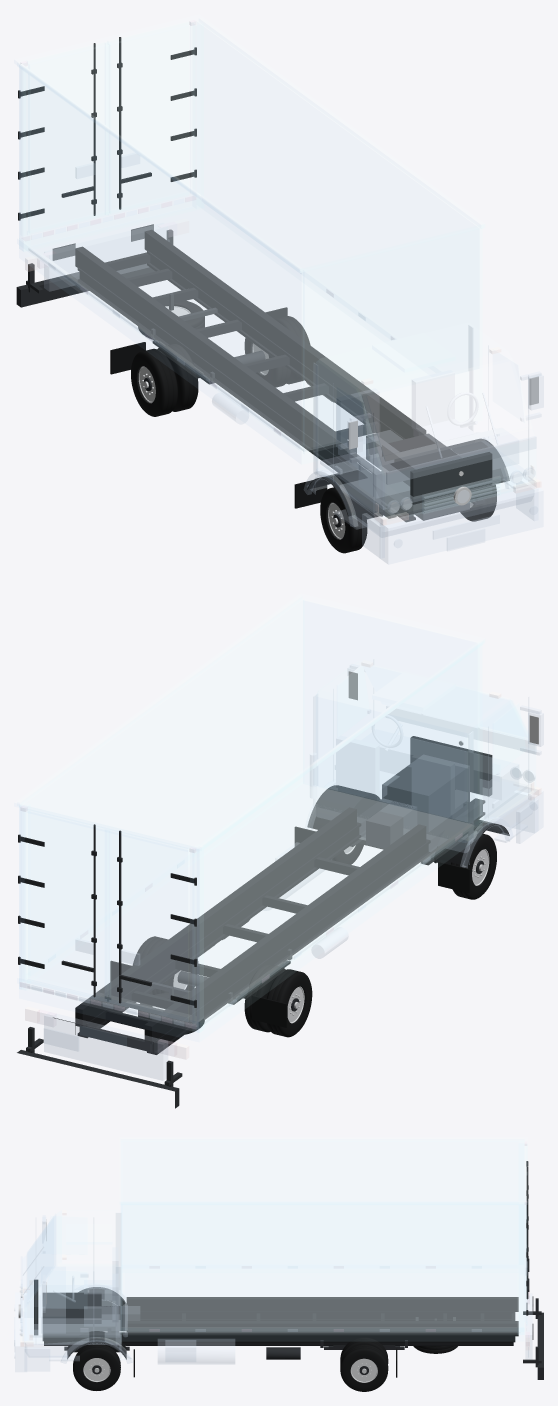
File: mb_accelo_ntp_raiox.glb
3 renders of one model, top to bottom at view 1: azimuth 30°, elevation 25°; view 2: azimuth 150°, elevation 25°; view 3: azimuth 270°, elevation 25°, orthographic. The views are drawn at different scales.
Parts seen in each view (by area): view 1: Floor, Subframe (×2), Front_Bumper, Cab_Skirt, Tire (×3), Dashboard, Seat_Back (×2), Rail_Web (×2), Cab_Floor, Radiator, Engine, Wheel_Arch_Liner (×2) (+10 smaller); view 2: Floor, Subframe (×2), Rear_Panel, Seat_Back (×2), Engine, Rail_Web (×2), Dashboard, Tire (×3), Wheel_Arch_Liner (×2), Rail_Flange_Top (×2), Cab_Skirt, Rail_Flange_Bottom (×2) (+10 smaller); view 3: Floor, Subframe (×2), Rail_Web (×2), Tire (×3), Rail_Flange_Top (×2), Cab_Floor, Engine, Cab_Skirt, Fuel_Tank, Rail_Flange_Bottom (×2), Dashboard, Seat_Base (×2) (+11 smaller).
Part boxes in pixels (x1,y1,x2,y2): Floor: (29,206,429,451); Subframe (×2): (75,230,426,465); Front_Bumper: (380,486,543,564); Cab_Skirt: (307,461,533,536); Tire (×3): (131,344,367,553); Dashboard: (359,428,518,498); Seat_Back (×2): (336,370,454,449); Rail_Web (×2): (79,256,482,520); Cab_Floor: (320,439,525,509); Radiator: (410,452,492,512); Engine: (382,433,469,520); Wheel_Arch_Liner (×2): (307,438,509,519); Floor: (28,783,473,1028); Subframe (×2): (75,807,426,1044); Rear_Panel: (44,1012,167,1080); Seat_Back (×2): (336,736,454,814); Engine: (382,754,469,832); Rail_Web (×2): (79,805,482,1053); Dashboard: (362,730,518,799); Tire (×3): (244,833,496,1037); Wheel_Arch_Liner (×2): (307,785,509,866); Rail_Flange_Top (×2): (85,798,485,1043); Cab_Skirt: (316,788,534,866); Rail_Flange_Bottom (×2): (77,812,485,1054); Floor: (125,1272,519,1332); Subframe (×2): (126,1297,518,1336); Rail_Web (×2): (44,1313,513,1343); Tire (×3): (73,1337,388,1391); Rail_Flange_Top (×2): (44,1311,513,1337); Cab_Floor: (30,1285,119,1337); Engine: (42,1292,101,1341); Cab_Skirt: (25,1290,131,1360); Fuel_Tank: (158,1339,234,1364); Rail_Flange_Bottom (×2): (44,1319,513,1345); Dashboard: (41,1267,65,1333); Seat_Base (×2): (84,1280,115,1326).
Bounding box in the file's own units: 2.57 × 3.5 × 8.52.
